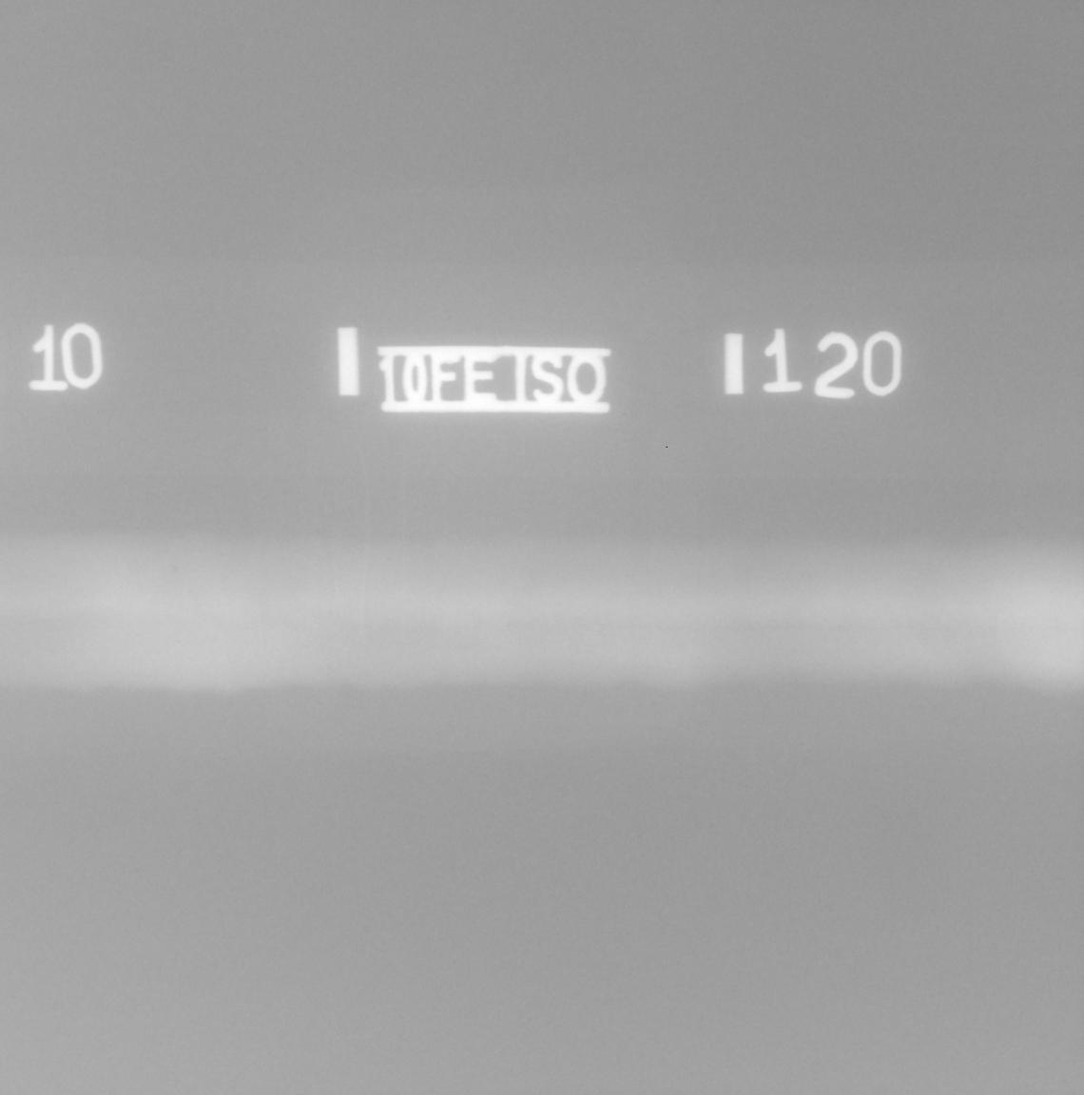Pore/Porosity: (170, 565, 178, 574)
